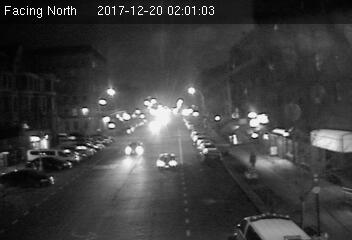car: (156, 152, 177, 169), (124, 141, 145, 157), (201, 146, 220, 161)
police: (226, 210, 319, 240)
